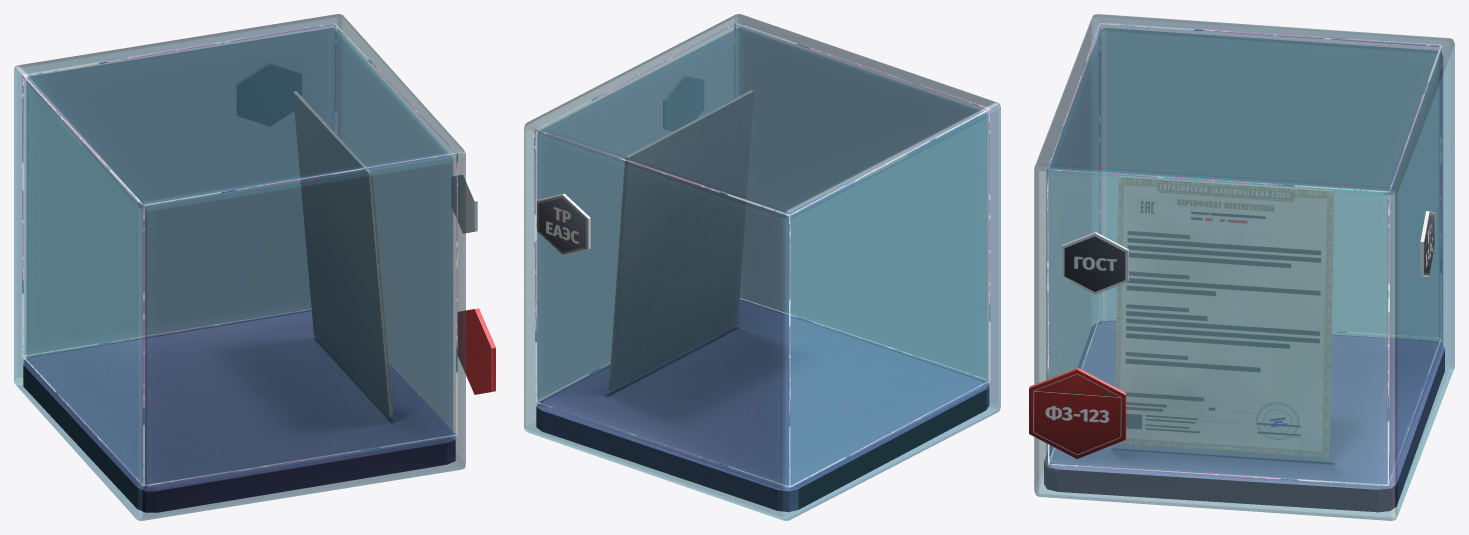
The picture shows the model from 3 angles, left to right: view 1: azimuth 30°, elevation 25°; view 2: azimuth 150°, elevation 25°; view 3: azimuth 270°, elevation 25°; orthographic projection. The views are drawn at different scales.
Visible parts, largest first — view 1: Cube, Cube.001, Plane.007, Cylinder, Plane.006, Plane.005, Plane.004; view 2: Cube, Cube.001, Plane.007, Cylinder, Plane.006, Plane.004; view 3: Cube, Plane.007, Cube.001, Plane.005, Cylinder, Plane.004, Plane.006.
Part boxes in pixels (bbox=[...]): Cube: bbox=[14, 14, 465, 520]; Cube.001: bbox=[23, 310, 455, 512]; Plane.007: bbox=[293, 91, 393, 416]; Cylinder: bbox=[22, 22, 457, 486]; Plane.006: bbox=[237, 63, 301, 125]; Plane.005: bbox=[457, 308, 495, 394]; Plane.004: bbox=[452, 174, 477, 233]; Cube: bbox=[524, 14, 1000, 520]; Cube.001: bbox=[536, 300, 989, 512]; Plane.007: bbox=[609, 90, 753, 390]; Cylinder: bbox=[534, 22, 990, 487]; Plane.006: bbox=[537, 193, 590, 255]; Plane.004: bbox=[663, 76, 703, 130]; Cube: bbox=[1034, 14, 1454, 520]; Plane.007: bbox=[1115, 176, 1334, 458]; Cube.001: bbox=[1044, 320, 1444, 512]; Plane.005: bbox=[1029, 367, 1126, 458]; Cylinder: bbox=[1047, 22, 1442, 485]; Plane.004: bbox=[1062, 232, 1128, 294]; Plane.006: bbox=[1420, 211, 1435, 276].
Bounding box in the file's own units: 2.69 × 2.36 × 2.73.
7 materials, 6 textured.
